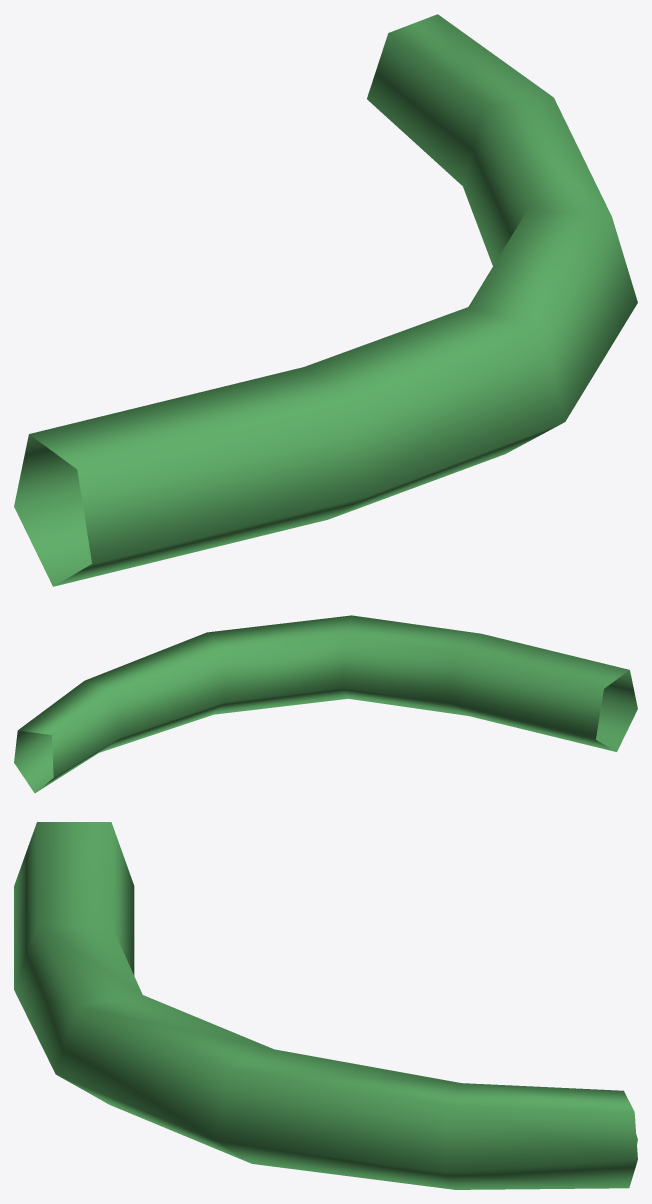
File: PipeK_1.fbx
3 renders of one model, top to bottom at view 1: azimuth 30°, elevation 25°; view 2: azimuth 150°, elevation 25°; view 3: azimuth 270°, elevation 25°, orthographic. The views are drawn at different scales.
Visible parts, largest first — view 1: PipeK_1; view 2: PipeK_1; view 3: PipeK_1.
Part boxes in pixels (x1,y1,x2,y2): PipeK_1: [14, 14, 637, 586]; PipeK_1: [14, 615, 637, 793]; PipeK_1: [14, 822, 637, 1189].
Bounding box in the file's own units: 89.09 × 15.07 × 81.81.
